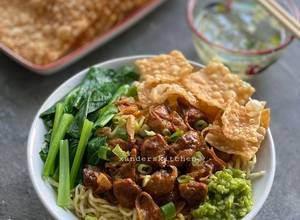Mie: (53, 82, 252, 214)
